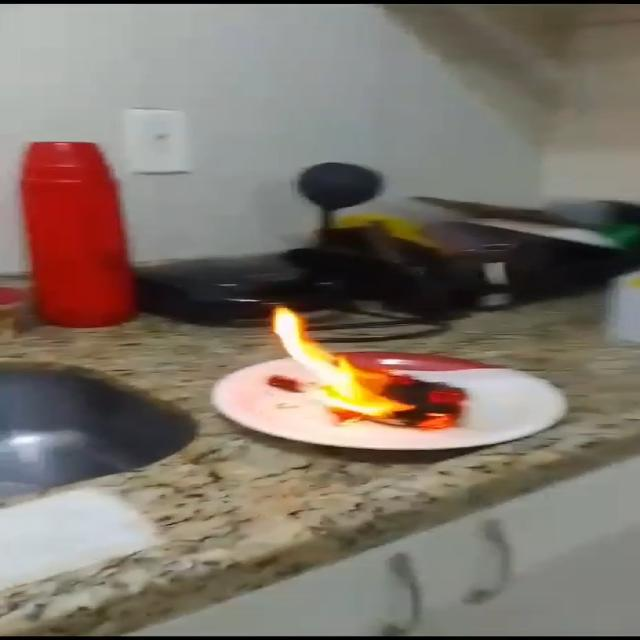fogo-ypXI: (270, 305, 470, 431)
